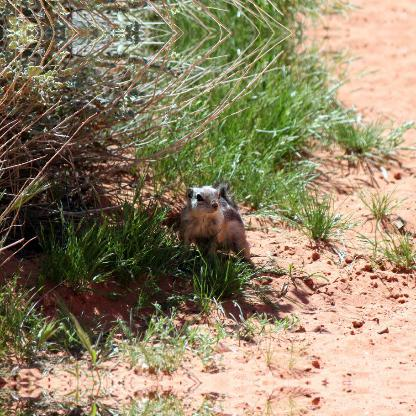Squirrel: (172, 178, 252, 274)
